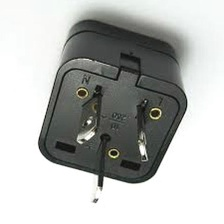three_eye_plug: (34, 15, 193, 210)
